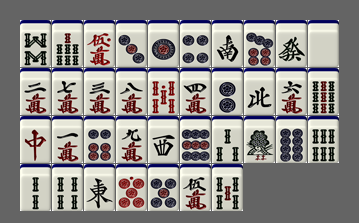0m: (84, 20, 115, 67)
0p: (116, 164, 147, 211)
0s: (148, 68, 179, 115)
1m: (52, 116, 83, 163)
1p: (148, 20, 179, 67)
1s: (244, 116, 275, 163)
1z: (84, 164, 115, 211)
2m: (20, 68, 51, 115)
2p: (212, 68, 243, 115)
2s: (20, 164, 51, 211)
2z: (212, 20, 243, 67)
3m: (84, 68, 115, 115)
3p: (116, 20, 147, 67)
3s: (212, 116, 243, 163)
3z: (148, 116, 179, 163)
4m: (180, 68, 211, 115)
4p: (180, 20, 211, 67)
4s: (52, 164, 83, 211)
4z: (244, 68, 275, 115)
5m: (180, 164, 211, 211)
5p: (148, 164, 179, 211)
5s: (212, 164, 243, 211)
5z: (308, 20, 339, 67)
6m: (276, 68, 307, 115)
6p: (84, 116, 115, 163)
6s: (308, 116, 339, 163)
6z: (276, 20, 307, 67)
7m: (52, 68, 83, 115)
7p: (244, 20, 275, 67)
7s: (52, 20, 83, 67)
7z: (20, 116, 51, 163)
8m: (116, 68, 147, 115)
8p: (276, 116, 307, 163)
8s: (20, 20, 51, 67)
9m: (116, 116, 147, 163)
9p: (180, 116, 211, 163)
9s: (308, 68, 339, 115)
